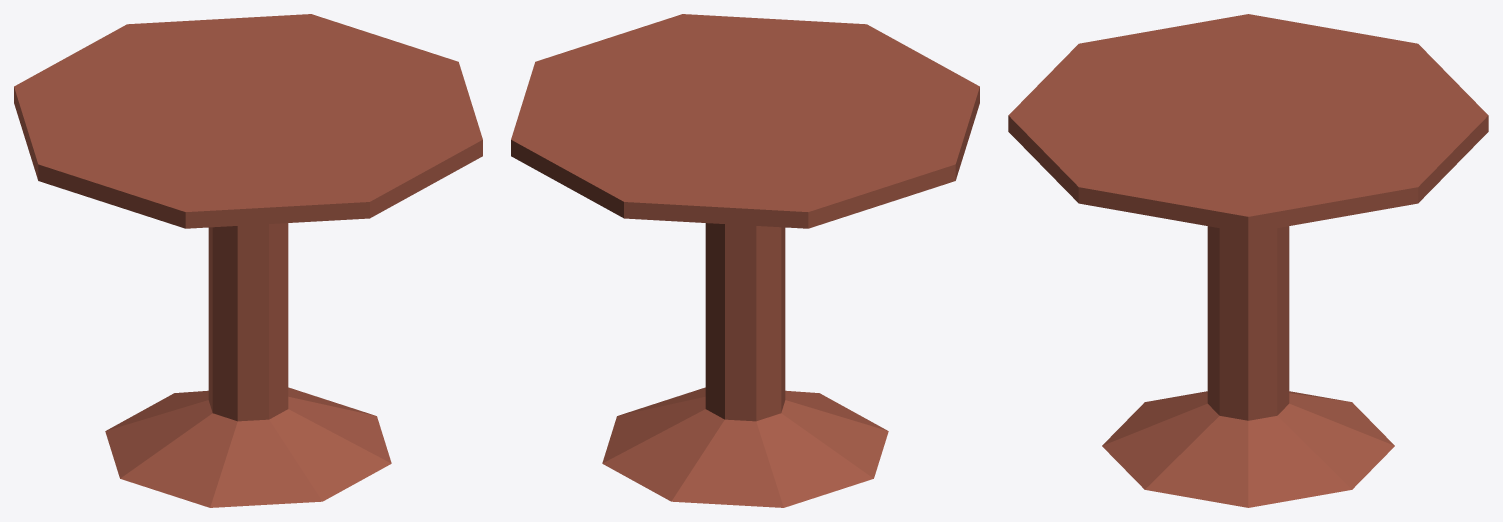
File: Tafel.fbx
3 renders of one model, left to right at view 1: azimuth 30°, elevation 25°; view 2: azimuth 150°, elevation 25°; view 3: azimuth 270°, elevation 25°, orthographic.
Visible parts, largest first — view 1: Cylinder; view 2: Cylinder; view 3: Cylinder.
Part boxes in pixels (left/top/right/bottom): Cylinder: left=14, top=14, right=482, bottom=507; Cylinder: left=511, top=14, right=979, bottom=507; Cylinder: left=1008, top=14, right=1488, bottom=507.
Bounding box in the file's own units: 679 × 516 × 679.
